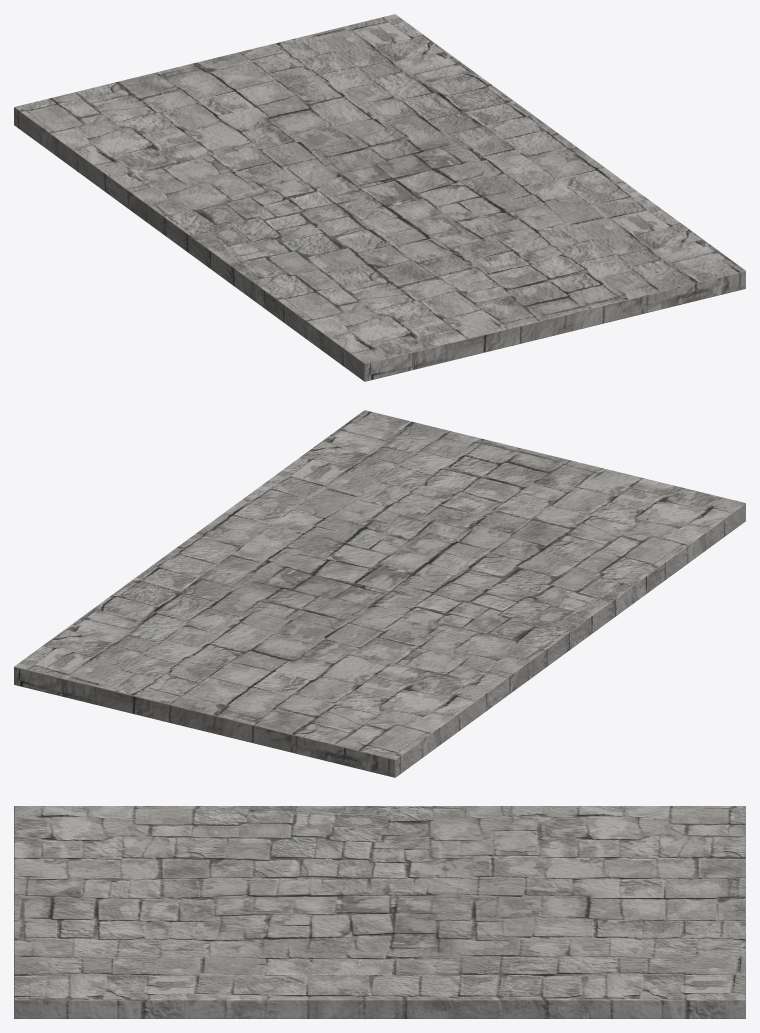
The model's file is SM_SJM_Floor.fbx.
3 renders of one model, top to bottom at view 1: azimuth 30°, elevation 25°; view 2: azimuth 150°, elevation 25°; view 3: azimuth 270°, elevation 25°, orthographic. The views are drawn at different scales.
Parts seen in each view (by area): view 1: SM_SJM_Floor; view 2: SM_SJM_Floor; view 3: SM_SJM_Floor.
Boxes of the visible parts, <box> form: SM_SJM_Floor: <box>14,14,745,381</box>; SM_SJM_Floor: <box>14,410,745,777</box>; SM_SJM_Floor: <box>14,806,745,1018</box>.
Size of the model in its own units: 576 by 917 by 26.56.
1 material, 1 textured.
